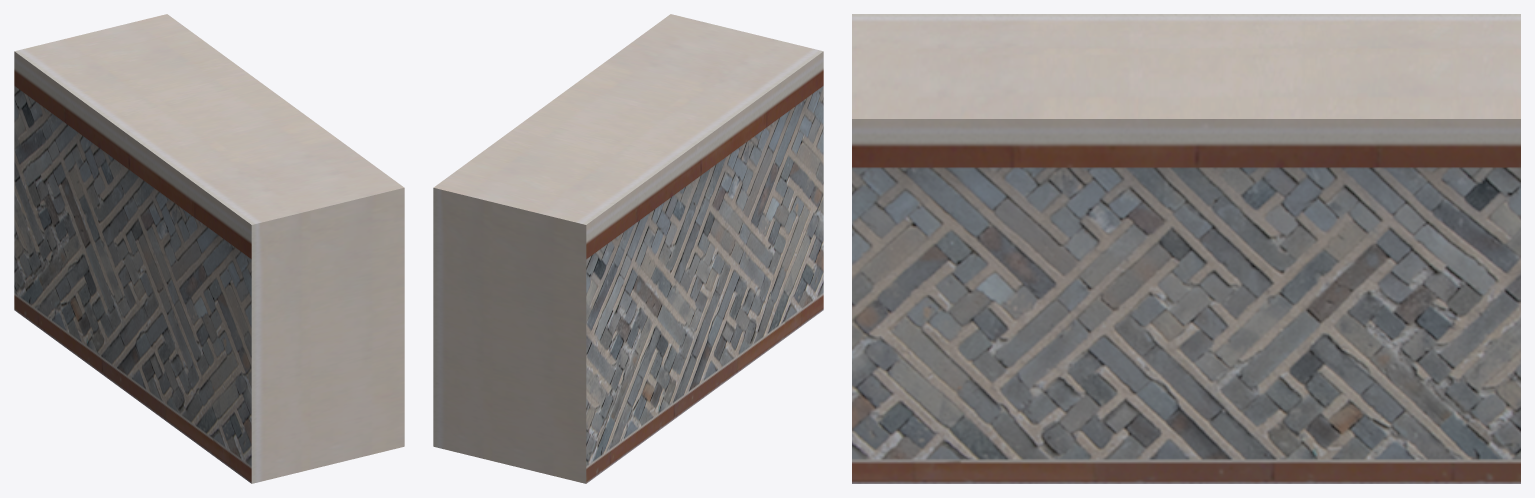
File: SM_StonewallPattern02A.fbx
The picture shows the model from 3 angles, left to right: view 1: azimuth 30°, elevation 25°; view 2: azimuth 150°, elevation 25°; view 3: azimuth 270°, elevation 25°; orthographic projection. The views are drawn at different scales.
Visible parts, largest first — view 1: SM_StonewallPattern02A; view 2: SM_StonewallPattern02A; view 3: SM_StonewallPattern02A.
Boxes of the visible parts, bbox=[...] form: SM_StonewallPattern02A: bbox=[14, 14, 404, 483]; SM_StonewallPattern02A: bbox=[433, 14, 823, 483]; SM_StonewallPattern02A: bbox=[852, 14, 1520, 483].
Bounding box in the file's own units: 57 × 153 × 92.29.
